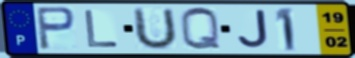1: (273, 6, 298, 52)
J: (236, 9, 270, 51)
L: (82, 9, 121, 49)
P: (34, 6, 78, 52)
Q: (178, 6, 224, 52)
U: (133, 6, 179, 52)
